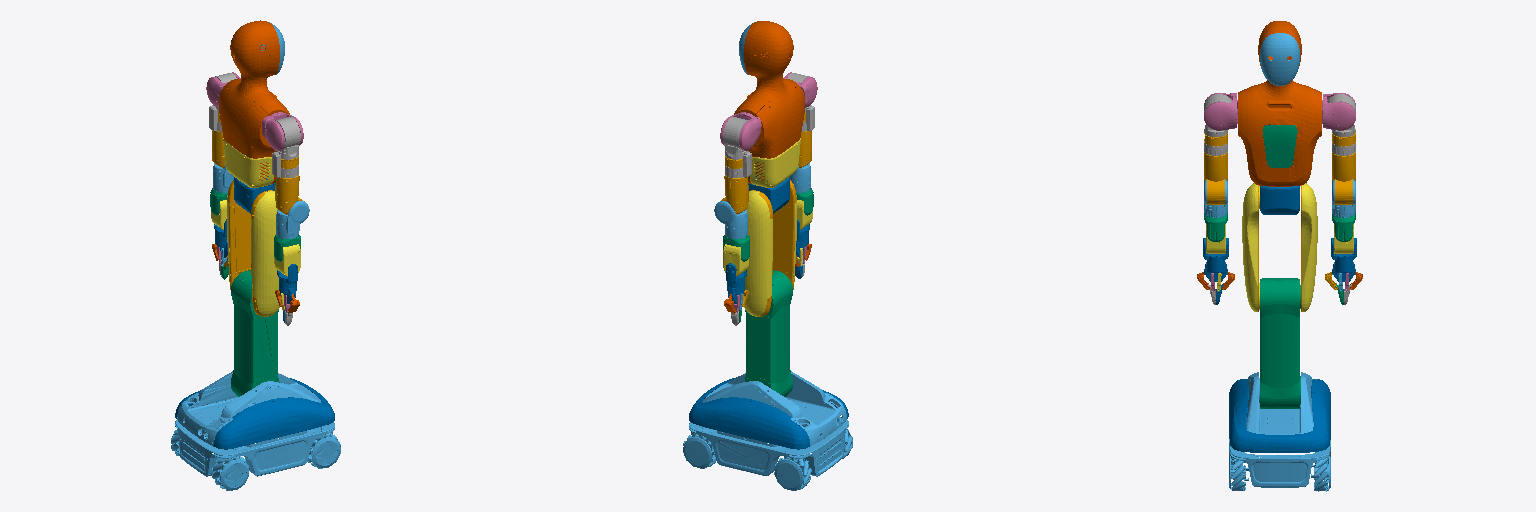
--- Facts derived from the render (not from the file) ---
Views: 3 orthographic renders of the robot side by side, from view 1: azimuth 30°, elevation 25°; view 2: azimuth 150°, elevation 25°; view 3: azimuth 270°, elevation 25°.
Robot: autolife — 37 links, 36 joints (18 revolute, 18 fixed); root link Link_Zero_Point; default pose: every joint at zero.
Visible links, largest first — view 1: Link_Ground_Vehicle_Z, Link_Waist_Yaw_to_Shoulder_Inner, Link_Ankle_to_Knee, Link_Ground_Vehicle_Visual_Cover, Link_Knee_to_Waist_Pitch, Link_Knee_Black_Cover, Link_Chest_Back_Cover, Link_Right_Shoulder_Outer_to_UpperArm, Link_Right_UpperArm_to_Elbow, Link_Right_Elbow_to_Forearm, Link_Right_Shoulder_Inner_to_Shoulder_Outer, Link_Waist_Pitch_to_Waist_Yaw; view 2: Link_Ground_Vehicle_Z, Link_Waist_Yaw_to_Shoulder_Inner, Link_Ankle_to_Knee, Link_Ground_Vehicle_Visual_Cover, Link_Knee_to_Waist_Pitch, Link_Knee_Black_Cover, Link_Chest_Back_Cover, Link_Left_Shoulder_Outer_to_UpperArm, Link_Left_UpperArm_to_Elbow, Link_Left_Elbow_to_Forearm, Link_Left_Shoulder_Inner_to_Shoulder_Outer, Link_Waist_Pitch_to_Waist_Yaw; view 3: Link_Waist_Yaw_to_Shoulder_Inner, Link_Ground_Vehicle_Z, Link_Ankle_to_Knee, Link_Ground_Vehicle_Visual_Cover, Link_Knee_to_Waist_Pitch, Link_Mask, Link_Chest_Front_Cover, Link_Left_UpperArm_to_Elbow, Link_Right_UpperArm_to_Elbow, Link_Waist_Pitch_to_Waist_Yaw, Link_Right_Shoulder_Inner_to_Shoulder_Outer, Link_Left_Shoulder_Inner_to_Shoulder_Outer (+4 smaller).
Link boxes in pixels (box(x1,y1,x2,y2)): Link_Ground_Vehicle_Z: box(171, 371, 340, 490); Link_Waist_Yaw_to_Shoulder_Inner: box(219, 20, 289, 183); Link_Ankle_to_Knee: box(231, 270, 279, 396); Link_Ground_Vehicle_Visual_Cover: box(175, 378, 334, 449); Link_Knee_to_Waist_Pitch: box(227, 184, 279, 316); Link_Knee_Black_Cover: box(227, 180, 272, 316); Link_Chest_Back_Cover: box(223, 138, 273, 187); Link_Right_Shoulder_Outer_to_UpperArm: box(272, 117, 300, 177); Link_Right_UpperArm_to_Elbow: box(275, 156, 304, 214); Link_Right_Elbow_to_Forearm: box(276, 201, 309, 238); Link_Right_Shoulder_Inner_to_Shoulder_Outer: box(262, 112, 303, 150); Link_Waist_Pitch_to_Waist_Yaw: box(234, 176, 275, 213); Link_Ground_Vehicle_Z: box(683, 371, 852, 490); Link_Waist_Yaw_to_Shoulder_Inner: box(734, 21, 804, 183); Link_Ankle_to_Knee: box(745, 270, 792, 396); Link_Ground_Vehicle_Visual_Cover: box(689, 377, 848, 449); Link_Knee_to_Waist_Pitch: box(744, 184, 796, 316); Link_Knee_Black_Cover: box(751, 180, 796, 316); Link_Chest_Back_Cover: box(750, 138, 800, 187); Link_Left_Shoulder_Outer_to_UpperArm: box(723, 117, 751, 177); Link_Left_UpperArm_to_Elbow: box(721, 156, 748, 214); Link_Left_Elbow_to_Forearm: box(714, 201, 747, 238); Link_Left_Shoulder_Inner_to_Shoulder_Outer: box(720, 112, 761, 150); Link_Waist_Pitch_to_Waist_Yaw: box(748, 176, 789, 213); Link_Waist_Yaw_to_Shoulder_Inner: box(1238, 21, 1321, 186); Link_Ground_Vehicle_Z: box(1229, 372, 1330, 491); Link_Ankle_to_Knee: box(1260, 278, 1300, 408); Link_Ground_Vehicle_Visual_Cover: box(1229, 379, 1330, 452); Link_Knee_to_Waist_Pitch: box(1242, 183, 1317, 311); Link_Mask: box(1260, 33, 1299, 85); Link_Chest_Front_Cover: box(1262, 125, 1297, 167); Link_Left_UpperArm_to_Elbow: box(1332, 132, 1355, 204); Link_Right_UpperArm_to_Elbow: box(1204, 133, 1227, 204); Link_Waist_Pitch_to_Waist_Yaw: box(1260, 186, 1299, 214); Link_Right_Shoulder_Inner_to_Shoulder_Outer: box(1204, 93, 1237, 130); Link_Left_Shoulder_Inner_to_Shoulder_Outer: box(1322, 93, 1355, 130).
Size in the robot's own frame: 0.5002 by 0.56 by 1.66 metres.
Meshes: 36 distinct files referenced, 36 mesh visuals loaded (36 binary STL).

robot.urdf — autolife:
<?xml version="1.0" encoding="utf-8"?>
<robot name="autolife">
  <link name="Link_Zero_Point" />

  <link name="Link_Ground_Vehicle_Z">
    <visual>
      <origin xyz="0 0 0" rpy="0 0 0" />
      <geometry>
        <mesh filename="package://meshes/Link_Ground_Vehicle_Z.STL" />
      </geometry>
    </visual>
    <collision>
      <origin xyz="0 0 0" rpy="0 0 0" />
      <geometry>
        <mesh filename="package://meshes/Link_Ground_Vehicle_Z.STL" />
      </geometry>
    </collision>
  </link>
  <joint name="Joint_Ground_Vehicle_Z" type="fixed">
    <origin xyz="0 0 0" rpy="1.5707963267949 0 -1.57079632679516" />
    <parent link="Link_Zero_Point" />
    <child link="Link_Ground_Vehicle_Z" />
    <axis xyz="0 0 0" />
  </joint>

  <link name="Link_Ankle_to_Knee">
    <visual>
      <origin xyz="0 0 0" rpy="0 0 0" />
      <geometry>
        <mesh filename="package://meshes/Link_Ankle_to_Knee.STL" />
      </geometry>
    </visual>
    <collision>
      <origin xyz="0 0 0" rpy="0 0 0" />
      <geometry>
        <mesh filename="package://meshes/Link_Ankle_to_Knee.STL" />
      </geometry>
    </collision>
  </link>
  <joint name="Joint_Ankle" type="revolute">
    <origin xyz="0 0.27 0" rpy="1.5708 0 1.5708" />
    <parent link="Link_Ground_Vehicle_Z" />
    <child link="Link_Ankle_to_Knee" />
    <axis xyz="0 0 -1" />
    <limit lower="-1.5708" upper="1.5708" effort="150" velocity="1" />
  </joint>

  <link name="Link_Knee_to_Waist_Pitch">
    <visual>
      <origin xyz="0 0 0" rpy="0 0 0" />
      <geometry>
        <mesh filename="package://meshes/Link_Knee_to_Waist_Pitch.STL" />
      </geometry>
    </visual>
    <collision>
      <origin xyz="0 0 0" rpy="0 0 0" />
      <geometry>
        <mesh filename="package://meshes/Link_Knee_to_Waist_Pitch.STL" />
      </geometry>
    </collision>
  </link>
  <joint name="Joint_Knee" type="revolute">
    <origin xyz="0.3495 0 0" rpy="0 0 0" />
    <parent link="Link_Ankle_to_Knee" />
    <child link="Link_Knee_to_Waist_Pitch" />
    <axis xyz="0 0 1" />
    <limit lower="-3.14" upper="3.14" effort="150" velocity="1" />
  </joint>

  <link name="Link_Waist_Pitch_to_Waist_Yaw">
    <visual>
      <origin xyz="0 0 0" rpy="0 0 0" />
      <geometry>
        <mesh filename="package://meshes/Link_Waist_Pitch_to_Waist_Yaw.STL" />
      </geometry>
    </visual>
    <collision>
      <origin xyz="0 0 0" rpy="0 0 0" />
      <geometry>
        <mesh filename="package://meshes/Link_Waist_Pitch_to_Waist_Yaw.STL" />
      </geometry>
    </collision>
  </link>
  <joint name="Joint_Waist_Pitch" type="revolute">
    <origin xyz="0.3705 0 0" rpy="0 0 0" />
    <parent link="Link_Knee_to_Waist_Pitch" />
    <child link="Link_Waist_Pitch_to_Waist_Yaw" />
    <axis xyz="0 0 -1" />
    <limit lower="-3" upper="3" effort="98" velocity="1" />
  </joint>

  <link name="Link_Waist_Yaw_to_Shoulder_Inner">
    <visual>
      <origin xyz="0 0 0" rpy="0 0 0" />
      <geometry>
        <mesh filename="package://meshes/Link_Waist_Yaw_to_Shoulder_Inner.STL" />
      </geometry>
    </visual>
    <collision>
      <origin xyz="0 0 0" rpy="0 0 0" />
      <geometry>
        <mesh filename="package://meshes/Link_Waist_Yaw_to_Shoulder_Inner.STL" />
      </geometry>
    </collision>
  </link>
  <joint name="Joint_Waist_Yaw" type="revolute">
    <origin xyz="0.06643 0 0" rpy="-1.5708 0 -1.5708" />
    <parent link="Link_Waist_Pitch_to_Waist_Yaw" />
    <child link="Link_Waist_Yaw_to_Shoulder_Inner" />
    <axis xyz="0 0 1" />
    <limit lower="-3.141" upper="3.141" effort="66" velocity="1" />
  </joint>

  <!-- Left Arm -->
  <link name="Link_Left_Shoulder_Inner_to_Shoulder_Outer">
    <visual>
      <origin xyz="0 0 0" rpy="0 0 0" />
      <geometry>
        <mesh filename="package://meshes/Link_Left_Shoulder_Inner_to_Shoulder_Outer.STL" />
      </geometry>
    </visual>
    <collision>
      <origin xyz="0 0 0" rpy="0 0 0" />
      <geometry>
        <mesh filename="package://meshes/Link_Left_Shoulder_Inner_to_Shoulder_Outer.STL" />
      </geometry>
    </collision>
  </link>
  <joint name="Joint_Left_Shoulder_Inner" type="revolute">
    <origin xyz="0 0.1311 0.25157" rpy="-1.5708 0 0" />
    <parent link="Link_Waist_Yaw_to_Shoulder_Inner" />
    <child link="Link_Left_Shoulder_Inner_to_Shoulder_Outer" />
    <axis xyz="0 0 -1" />
    <limit lower="-2.6179" upper="3.141" effort="21" velocity="1" />
  </joint>

  <link name="Link_Left_Shoulder_Outer_to_UpperArm">
    <visual>
      <origin xyz="0 0 0" rpy="0 0 0" />
      <geometry>
        <mesh filename="package://meshes/Link_Left_Shoulder_Outer_to_UpperArm.STL" />
      </geometry>
    </visual>
    <collision>
      <origin xyz="0 0 0" rpy="0 0 0" />
      <geometry>
        <mesh filename="package://meshes/Link_Left_Shoulder_Outer_to_UpperArm.STL" />
      </geometry>
    </collision>
  </link>
  <joint name="Joint_Left_Shoulder_Outer" type="revolute">
    <origin xyz="0.02825 0 0.074" rpy="1.5708 0 1.5708" />
    <parent link="Link_Left_Shoulder_Inner_to_Shoulder_Outer" />
    <child link="Link_Left_Shoulder_Outer_to_UpperArm" />
    <axis xyz="0 0 1" />
    <limit lower="-0.349" upper="3.1415" effort="18" velocity="1" />
  </joint>

  <link name="Link_Left_UpperArm_to_Elbow">
    <visual>
      <origin xyz="0 0 0" rpy="0 0 0" />
      <geometry>
        <mesh filename="package://meshes/Link_Left_UpperArm_to_Elbow.STL" />
      </geometry>
    </visual>
    <collision>
      <origin xyz="0 0 0" rpy="0 0 0" />
      <geometry>
        <mesh filename="package://meshes/Link_Left_UpperArm_to_Elbow.STL" />
      </geometry>
    </collision>
  </link>
  <joint name="Joint_Left_UpperArm" type="revolute">
    <origin xyz="0.1105 0.011 -0.02825" rpy="0 -1.5708 3.1415" />
    <parent link="Link_Left_Shoulder_Outer_to_UpperArm" />
    <child link="Link_Left_UpperArm_to_Elbow" />
    <axis xyz="0 0 -1" />
    <limit lower="-2.9322" upper="2.9322" effort="15" velocity="1" />
  </joint>

  <link name="Link_Left_Elbow_to_Forearm">
    <visual>
      <origin xyz="0 0 0" rpy="0 0 0" />
      <geometry>
        <mesh filename="package://meshes/Link_Left_Elbow_to_Forearm.STL" />
      </geometry>
    </visual>
    <collision>
      <origin xyz="0 0 0" rpy="0 0 0" />
      <geometry>
        <mesh filename="package://meshes/Link_Left_Elbow_to_Forearm.STL" />
      </geometry>
    </collision>
  </link>
  <joint name="Joint_Left_Elbow" type="revolute">
    <origin xyz="0.025 0.02925 0.1761" rpy="0 -1.5708 -1.5708" />
    <parent link="Link_Left_UpperArm_to_Elbow" />
    <child link="Link_Left_Elbow_to_Forearm" />
    <axis xyz="0 0 1" />
    <limit lower="-0.0524" upper="2.6179" effort="12" velocity="1" />
  </joint>

  <link name="Link_Left_Forearm_to_Wrist_Upper">
    <visual>
      <origin xyz="0 0 0" rpy="0 0 0" />
      <geometry>
        <mesh filename="package://meshes/Link_Left_Forearm_to_Wrist_Upper.STL" />
      </geometry>
    </visual>
    <collision>
      <origin xyz="0 0 0" rpy="0 0 0" />
      <geometry>
        <mesh filename="package://meshes/Link_Left_Forearm_to_Wrist_Upper.STL" />
      </geometry>
    </collision>
  </link>
  <joint name="Joint_Left_Forearm" type="revolute">
    <origin xyz="0.1055 -0.025 -0.02925" rpy="1.5708 0 1.5708" />
    <parent link="Link_Left_Elbow_to_Forearm" />
    <child link="Link_Left_Forearm_to_Wrist_Upper" />
    <axis xyz="0 0 1" />
    <limit lower="-2.8798" upper="2.8798" effort="9" velocity="1" />
  </joint>

  <link name="Link_Left_Wrist_Upper_to_Wrist_Lower">
    <visual>
      <origin xyz="0 0 0" rpy="0 0 0" />
      <geometry>
        <mesh filename="package://meshes/Link_Left_Wrist_Upper_to_Wrist_Lower.STL" />
      </geometry>
    </visual>
    <collision>
      <origin xyz="0 0 0" rpy="0 0 0" />
      <geometry>
        <mesh filename="package://meshes/Link_Left_Wrist_Upper_to_Wrist_Lower.STL" />
      </geometry>
    </collision>
  </link>
  <joint name="Joint_Left_Wrist_Upper" type="revolute">
    <origin xyz="0.0321 0.00036292 0.045" rpy="0 -1.5708 3.1415" />
    <parent link="Link_Left_Forearm_to_Wrist_Upper" />
    <child link="Link_Left_Wrist_Upper_to_Wrist_Lower" />
    <axis xyz="0 0 -1" />
    <limit lower="-1.57" upper="1.57" effort="6" velocity="1" />
  </joint>

  <link name="Link_Left_Wrist_Lower_to_Gripper">
    <visual>
      <origin xyz="0 0 0" rpy="0 0 0" />
      <geometry>
        <mesh filename="package://meshes/Link_Left_Wrist_Lower_to_Gripper.STL" />
      </geometry>
    </visual>
    <collision>
      <origin xyz="0 0 0" rpy="0 0 0" />
      <geometry>
        <mesh filename="package://meshes/Link_Left_Wrist_Lower_to_Gripper.STL" />
      </geometry>
    </collision>
  </link>
  <joint name="Joint_Left_Wrist_Lower" type="revolute">
    <origin xyz="0.0552 0.0321 -0.0321" rpy="-1.5708 0 0" />
    <parent link="Link_Left_Wrist_Upper_to_Wrist_Lower" />
    <child link="Link_Left_Wrist_Lower_to_Gripper" />
    <axis xyz="0 0 1" />
    <limit lower="-1.4138" upper="1.4138" effort="3" velocity="1" />
  </joint>

  <link name="Link_Left_Gripper">
    <visual>
      <origin xyz="0 0 0" rpy="0 0 0" />
      <geometry>
        <mesh filename="package://meshes/Link_Left_Gripper.STL" />
      </geometry>
    </visual>
    <collision>
      <origin xyz="0 0 0" rpy="0 0 0" />
      <geometry>
        <mesh filename="package://meshes/Link_Left_Gripper.STL" />
      </geometry>
    </collision>
  </link>
  <joint name="Joint_Left_Gripper" type="fixed">
    <origin xyz="0.10148 -0.011 -0.0011371" rpy="1.5708 -1.5708 0" />
    <parent link="Link_Left_Wrist_Lower_to_Gripper" />
    <child link="Link_Left_Gripper" />
    <axis xyz="0 0 1" />
  </joint>

  <!-- Right Arm -->
  <link name="Link_Right_Shoulder_Inner_to_Shoulder_Outer">
    <visual>
      <origin xyz="0 0 0" rpy="0 0 0" />
      <geometry>
        <mesh filename="package://meshes/Link_Right_Shoulder_Inner_to_Shoulder_Outer.STL" />
      </geometry>
    </visual>
    <collision>
      <origin xyz="0 0 0" rpy="0 0 0" />
      <geometry>
        <mesh filename="package://meshes/Link_Right_Shoulder_Inner_to_Shoulder_Outer.STL" />
      </geometry>
    </collision>
  </link>
  <joint name="Joint_Right_Shoulder_Inner" type="revolute">
    <origin xyz="0 -0.1311 0.25157" rpy="1.5708 0 0" />
    <parent link="Link_Waist_Yaw_to_Shoulder_Inner" />
    <child link="Link_Right_Shoulder_Inner_to_Shoulder_Outer" />
    <axis xyz="0 0 -1" />
    <limit lower="-2.6179" upper="3.141" effort="21" velocity="1" />
  </joint>

  <link name="Link_Right_Shoulder_Outer_to_UpperArm">
    <visual>
      <origin xyz="0 0 0" rpy="0 0 0" />
      <geometry>
        <mesh filename="package://meshes/Link_Right_Shoulder_Outer_to_UpperArm.STL" />
      </geometry>
    </visual>
    <collision>
      <origin xyz="0 0 0" rpy="0 0 0" />
      <geometry>
        <mesh filename="package://meshes/Link_Right_Shoulder_Outer_to_UpperArm.STL" />
      </geometry>
    </collision>
  </link>
  <joint name="Joint_Right_Shoulder_Outer" type="revolute">
    <origin xyz="0.02825 0 0.074" rpy="-1.5708 0 -1.5708" />
    <parent link="Link_Right_Shoulder_Inner_to_Shoulder_Outer" />
    <child link="Link_Right_Shoulder_Outer_to_UpperArm" />
    <axis xyz="0 0 1" />
    <limit lower="-3.1415" upper="0.349" effort="18" velocity="1" />
  </joint>

  <link name="Link_Right_UpperArm_to_Elbow">
    <visual>
      <origin xyz="0 0 0" rpy="0 0 0" />
      <geometry>
        <mesh filename="package://meshes/Link_Right_UpperArm_to_Elbow.STL" />
      </geometry>
    </visual>
    <collision>
      <origin xyz="0 0 0" rpy="0 0 0" />
      <geometry>
        <mesh filename="package://meshes/Link_Right_UpperArm_to_Elbow.STL" />
      </geometry>
    </collision>
  </link>
  <joint name="Joint_Right_UpperArm" type="revolute">
    <origin xyz="0.1105 -0.011 -0.02825" rpy="3.1415 -1.5708 0" />
    <parent link="Link_Right_Shoulder_Outer_to_UpperArm" />
    <child link="Link_Right_UpperArm_to_Elbow" />
    <axis xyz="0 0 -1" />
    <limit lower="-2.9322" upper="2.9322" effort="15" velocity="1" />
  </joint>

  <link name="Link_Right_Elbow_to_Forearm">
    <visual>
      <origin xyz="0 0 0" rpy="0 0 0" />
      <geometry>
        <mesh filename="package://meshes/Link_Right_Elbow_to_Forearm.STL" />
      </geometry>
    </visual>
    <collision>
      <origin xyz="0 0 0" rpy="0 0 0" />
      <geometry>
        <mesh filename="package://meshes/Link_Right_Elbow_to_Forearm.STL" />
      </geometry>
    </collision>
  </link>
  <joint name="Joint_Right_Elbow" type="revolute">
    <origin xyz="0.025 0.03075 0.1761" rpy="0 -1.5708 -1.5708" />
    <parent link="Link_Right_UpperArm_to_Elbow" />
    <child link="Link_Right_Elbow_to_Forearm" />
    <axis xyz="0 0 -1" />
    <limit lower="-2.6179" upper="0.0524" effort="12" velocity="1" />
  </joint>

  <link name="Link_Right_Forearm_to_Wrist_Upper">
    <visual>
      <origin xyz="0 0 0" rpy="0 0 0" />
      <geometry>
        <mesh filename="package://meshes/Link_Right_Forearm_to_Wrist_Upper.STL" />
      </geometry>
    </visual>
    <collision>
      <origin xyz="0 0 0" rpy="0 0 0" />
      <geometry>
        <mesh filename="package://meshes/Link_Right_Forearm_to_Wrist_Upper.STL" />
      </geometry>
    </collision>
  </link>
  <joint name="Joint_Right_Forearm" type="revolute">
    <origin xyz="0.1055 -0.025 -0.03075" rpy="1.5708 0 1.5708" />
    <parent link="Link_Right_Elbow_to_Forearm" />
    <child link="Link_Right_Forearm_to_Wrist_Upper" />
    <axis xyz="0 0 1" />
    <limit lower="-2.8798" upper="2.8798" effort="9" velocity="1" />
  </joint>

  <link name="Link_Right_Wrist_Upper_to_Wrist_Lower ">
    <visual>
      <origin xyz="0 0 0" rpy="0 0 0" />
      <geometry>
        <mesh filename="package://meshes/Link_Right_Wrist_Upper_to_Wrist_Lower .STL" />
      </geometry>
    </visual>
    <collision>
      <origin xyz="0 0 0" rpy="0 0 0" />
      <geometry>
        <mesh filename="package://meshes/Link_Right_Wrist_Upper_to_Wrist_Lower .STL" />
      </geometry>
    </collision>
  </link>
  <joint name="Joint_Right_Wrist_Upper" type="revolute">
    <origin xyz="0.0321 -0.00036285 0.045" rpy="3.1415 -1.5708 0" />
    <parent link="Link_Right_Forearm_to_Wrist_Upper" />
    <child link="Link_Right_Wrist_Upper_to_Wrist_Lower " />
    <axis xyz="0 0 -1" />
    <limit lower="-1.57" upper="1.57" effort="6" velocity="1" />
  </joint>

  <link name="Link_Right_Wrist_Lower_to_Gripper">
    <visual>
      <origin xyz="0 0 0" rpy="0 0 0" />
      <geometry>
        <mesh filename="package://meshes/Link_Right_Wrist_Lower_to_Gripper.STL" />
      </geometry>
    </visual>
    <collision>
      <origin xyz="0 0 0" rpy="0 0 0" />
      <geometry>
        <mesh filename="package://meshes/Link_Right_Wrist_Lower_to_Gripper.STL" />
      </geometry>
    </collision>
  </link>
  <joint name="Joint_Right_Wrist_Lower" type="revolute">
    <origin xyz="0.0552 0.0321 -0.0321" rpy="-1.5708 0 0" />
    <parent link="Link_Right_Wrist_Upper_to_Wrist_Lower " />
    <child link="Link_Right_Wrist_Lower_to_Gripper" />
    <axis xyz="0 0 1" />
    <limit lower="-1.4138" upper="1.4138" effort="3" velocity="1" />
  </joint>

  <link name="Link_Right_Gripper">
    <visual>
      <origin xyz="0 0 0" rpy="0 0 0" />
      <geometry>
        <mesh filename="package://meshes/Link_Right_Gripper.STL" />
      </geometry>
    </visual>
    <collision>
      <origin xyz="0 0 0" rpy="0 0 0" />
      <geometry>
        <mesh filename="package://meshes/Link_Right_Gripper.STL" />
      </geometry>
    </collision>
  </link>
  <joint name="Joint_Right_Gripper" type="fixed">
    <origin xyz="0.10148 -0.011 -0.0018628" rpy="1.5708 -1.5708 0" />
    <parent link="Link_Right_Wrist_Lower_to_Gripper" />
    <child link="Link_Right_Gripper" />
    <axis xyz="0 0 1" />
  </joint>

  <!-- Non-sensor additional links restored from original URDF -->
  <!-- Left gripper sub-links -->
  <link name="Link_Left_Gripper_Left_Inner_Knuckle">
    <visual>
      <origin xyz="0 0 0" rpy="0 0 0" />
      <geometry>
        <mesh filename="package://meshes/Link_Left_Gripper_Left_Inner_Knuckle.STL" />
      </geometry>
    </visual>
    <collision>
      <origin xyz="0 0 0" rpy="0 0 0" />
      <geometry>
        <mesh filename="package://meshes/Link_Left_Gripper_Left_Inner_Knuckle.STL" />
      </geometry>
    </collision>
  </link>
  <joint name="Joint_Left_Gripper_Left_Inner_Knuckle" type="fixed">
    <origin xyz="0.10799 -0.011 -0.019037" rpy="1.5708 -1.5708 0" />
    <parent link="Link_Left_Wrist_Lower_to_Gripper" />
    <child link="Link_Left_Gripper_Left_Inner_Knuckle" />
    <axis xyz="0 0 1" />
    <limit lower="-1" upper="1" effort="2" velocity="1" />
    <mimic joint="Joint_Left_Gripper" multiplier="1" offset="0" />
  </joint>

  <link name="Joint_Left_Gripper_Left_Finger">
    <visual>
      <origin xyz="0 0 0" rpy="0 0 0" />
      <geometry>
        <mesh filename="package://meshes/Joint_Left_Gripper_Left_Finger.STL" />
      </geometry>
    </visual>
    <collision>
      <origin xyz="0 0 0" rpy="0 0 0" />
      <geometry>
        <mesh filename="package://meshes/Joint_Left_Gripper_Left_Finger.STL" />
      </geometry>
    </collision>
  </link>
  <joint name="Joint_Left_Gripper_Left_Finger" type="fixed">
    <origin xyz="-0.0032202 -0.057059 -0.0029" rpy="0 0 0" />
    <parent link="Link_Left_Gripper_Left_Inner_Knuckle" />
    <child link="Joint_Left_Gripper_Left_Finger" />
    <axis xyz="0 0 1" />
    <limit lower="-1" upper="1" effort="2" velocity="1" />
    <mimic joint="Joint_Left_Gripper" multiplier="-1" offset="0" />
  </joint>

  <link name="Link_Left_Gripper_Right_Outer_Knuckle">
    <visual>
      <origin xyz="0 0 0" rpy="0 0 0" />
      <geometry>
        <mesh filename="package://meshes/Link_Left_Gripper_Right_Outer_Knuckle.STL" />
      </geometry>
    </visual>
    <collision>
      <origin xyz="0 0 0" rpy="0 0 0" />
      <geometry>
        <mesh filename="package://meshes/Link_Left_Gripper_Right_Outer_Knuckle.STL" />
      </geometry>
    </collision>
  </link>
  <joint name="Joint_Left_Gripper_Right_Outer_Knuckle" type="fixed">
    <origin xyz="0.10148 -0.011 -0.062337" rpy="1.5708 -1.5708 0" />
    <parent link="Link_Left_Wrist_Lower_to_Gripper" />
    <child link="Link_Left_Gripper_Right_Outer_Knuckle" />
    <axis xyz="0 0 1" />
    <limit lower="-1" upper="1" effort="2" velocity="1" />
    <mimic joint="Joint_Left_Gripper" multiplier="-1" offset="0" />
  </joint>

  <link name="Link_Left_Gripper_Right_Inner_Knuckle">
    <visual>
      <origin xyz="0 0 0" rpy="0 0 0" />
      <geometry>
        <mesh filename="package://meshes/Link_Left_Gripper_Right_Inner_Knuckle.STL" />
      </geometry>
    </visual>
    <collision>
      <origin xyz="0 0 0" rpy="0 0 0" />
      <geometry>
        <mesh filename="package://meshes/Link_Left_Gripper_Right_Inner_Knuckle.STL" />
      </geometry>
    </collision>
  </link>
  <joint name="Joint_Left_Gripper_Right_Inner_Knuckle" type="fixed">
    <origin xyz="0.10799 -0.011 -0.044437" rpy="1.5708 -1.5708 0" />
    <parent link="Link_Left_Wrist_Lower_to_Gripper" />
    <child link="Link_Left_Gripper_Right_Inner_Knuckle" />
    <axis xyz="0 0 1" />
    <limit lower="-1" upper="1" effort="2" velocity="1" />
    <mimic joint="Joint_Left_Gripper" multiplier="-1" offset="0" />
  </joint>

  <link name="Link_Left_Gripper_Right_Finger">
    <visual>
      <origin xyz="0 0 0" rpy="0 0 0" />
      <geometry>
        <mesh filename="package://meshes/Link_Left_Gripper_Right_Finger.STL" />
      </geometry>
    </visual>
    <collision>
      <origin xyz="0 0 0" rpy="0 0 0" />
      <geometry>
        <mesh filename="package://meshes/Link_Left_Gripper_Right_Finger.STL" />
      </geometry>
    </collision>
  </link>
  <joint name="Joint_Left_Gripper_Right_Finger" type="fixed">
    <origin xyz="0.0032202 -0.057059 -0.0029" rpy="0 0 0" />
    <parent link="Link_Left_Gripper_Right_Inner_Knuckle" />
    <child link="Link_Left_Gripper_Right_Finger" />
    <axis xyz="0 0 1" />
    <limit lower="-1" upper="1" effort="2" velocity="1" />
    <mimic joint="Joint_Left_Gripper" multiplier="1" offset="0" />
  </joint>

  <!-- Right gripper sub-links -->
  <link name="Link_Right_Gripper_Left_Inner_Knuckle">
    <visual>
      <origin xyz="0 0 0" rpy="0 0 0" />
      <geometry>
        <mesh filename="package://meshes/Link_Right_Gripper_Left_Inner_Knuckle.STL" />
      </geometry>
    </visual>
    <collision>
      <origin xyz="0 0 0" rpy="0 0 0" />
      <geometry>
        <mesh filename="package://meshes/Link_Right_Gripper_Left_Inner_Knuckle.STL" />
      </geometry>
    </collision>
  </link>
  <joint name="Joint_Right_Gripper_Left_Inner_Knuckle" type="fixed">
    <origin xyz="0.10799 -0.011 -0.019763" rpy="1.5708 -1.5708 0" />
    <parent link="Link_Right_Wrist_Lower_to_Gripper" />
    <child link="Link_Right_Gripper_Left_Inner_Knuckle" />
    <axis xyz="0 0 1" />
    <limit lower="-1" upper="1" effort="2" velocity="1" />
    <mimic joint="Joint_Right_Gripper" multiplier="1" offset="0" />
  </joint>

  <link name="Link_Right_Gripper_Left_Finger">
    <visual>
      <origin xyz="0 0 0" rpy="0 0 0" />
      <geometry>
        <mesh filename="package://meshes/Link_Right_Gripper_Left_Finger.STL" />
      </geometry>
    </visual>
    <collision>
      <origin xyz="0 0 0" rpy="0 0 0" />
      <geometry>
        <mesh filename="package://meshes/Link_Right_Gripper_Left_Finger.STL" />
      </geometry>
    </collision>
  </link>
  <joint name="Joint_Right_Gripper_Left_Finger" type="fixed">
    <origin xyz="-0.0032202 -0.057059 -0.0029" rpy="0 0 0" />
    <parent link="Link_Right_Gripper_Left_Inner_Knuckle" />
    <child link="Link_Right_Gripper_Left_Finger" />
    <axis xyz="0 0 1" />
    <limit lower="-1" upper="1" effort="2" velocity="1" />
    <mimic joint="Joint_Right_Gripper" multiplier="-1" offset="0" />
  </joint>

  <link name="Link_Right_Gripper_Right_Outer_Knuckle">
    <visual>
      <origin xyz="0 0 0" rpy="0 0 0" />
      <geometry>
        <mesh filename="package://meshes/Link_Right_Gripper_Right_Outer_Knuckle.STL" />
      </geometry>
    </visual>
    <collision>
      <origin xyz="0 0 0" rpy="0 0 0" />
      <geometry>
        <mesh filename="package://meshes/Link_Right_Gripper_Right_Outer_Knuckle.STL" />
      </geometry>
    </collision>
  </link>
  <joint name="Joint_Right_Gripper_Right_Outer_Knuckle" type="fixed">
    <origin xyz="0.10148 -0.011 -0.063063" rpy="1.5708 -1.5708 0" />
    <parent link="Link_Right_Wrist_Lower_to_Gripper" />
    <child link="Link_Right_Gripper_Right_Outer_Knuckle" />
    <axis xyz="0 0 1" />
    <limit lower="-1" upper="1" effort="2" velocity="1" />
    <mimic joint="Joint_Right_Gripper" multiplier="-1" offset="0" />
  </joint>

  <link name="Link_Right_Gripper_Right_Inner_Knuckle">
    <visual>
      <origin xyz="0 0 0" rpy="0 0 0" />
      <geometry>
        <mesh filename="package://meshes/Link_Right_Gripper_Right_Inner_Knuckle.STL" />
      </geometry>
    </visual>
    <collision>
      <origin xyz="0 0 0" rpy="0 0 0" />
      <geometry>
        <mesh filename="package://meshes/Link_Right_Gripper_Right_Inner_Knuckle.STL" />
      </geometry>
    </collision>
  </link>
  <joint name="Joint_Right_Gripper_Right_Inner_Knuckle" type="fixed">
    <origin xyz="0.10799 -0.011 -0.045163" rpy="1.5708 -1.5708 0" />
    <parent link="Link_Right_Wrist_Lower_to_Gripper" />
    <child link="Link_Right_Gripper_Right_Inner_Knuckle" />
    <axis xyz="0 0 1" />
    <limit lower="-1" upper="1" effort="2" velocity="1" />
    <mimic joint="Joint_Right_Gripper" multiplier="-1" offset="0" />
  </joint>

  <link name="Link_Right_Gripper_Right_Finger">
    <visual>
      <origin xyz="0 0 0" rpy="0 0 0" />
      <geometry>
        <mesh filename="package://meshes/Link_Right_Gripper_Right_Finger.STL" />
      </geometry>
    </visual>
    <collision>
      <origin xyz="0 0 0" rpy="0 0 0" />
      <geometry>
        <mesh filename="package://meshes/Link_Right_Gripper_Right_Finger.STL" />
      </geometry>
    </collision>
  </link>
  <joint name="Joint_Right_Gripper_Right_Finger" type="fixed">
    <origin xyz="0.0032202 -0.057059 -0.0029" rpy="0 0 0" />
    <parent link="Link_Right_Gripper_Right_Inner_Knuckle" />
    <child link="Link_Right_Gripper_Right_Finger" />
    <axis xyz="0 0 1" />
    <limit lower="-1" upper="1" effort="2" velocity="1" />
    <mimic joint="Joint_Right_Gripper" multiplier="1" offset="0" />
  </joint>

  <!-- Other non-sensor covers -->
  <link name="Link_Knee_Black_Cover">
    <visual>
      <origin xyz="0 0 0" rpy="0 0 0" />
      <geometry>
        <mesh filename="package://meshes/Link_Knee_Black_Cover.STL" />
      </geometry>
    </visual>
    <collision>
      <origin xyz="0 0 0" rpy="0 0 0" />
      <geometry>
        <mesh filename="package://meshes/Link_Knee_Black_Cover.STL" />
      </geometry>
    </collision>
  </link>
  <joint name="Joint_Knee_Black_Cover" type="fixed">
    <origin xyz="0.3705 0 0" rpy="0 0 0" />
    <parent link="Link_Knee_to_Waist_Pitch" />
    <child link="Link_Knee_Black_Cover" />
    <axis xyz="0 0 0" />
  </joint>

  <link name="Link_Mask">
    <visual>
      <origin xyz="0 0 0" rpy="0 0 0" />
      <geometry>
        <mesh filename="package://meshes/Link_Mask.STL" />
      </geometry>
    </visual>
    <collision>
      <origin xyz="0 0 0" rpy="0 0 0" />
      <geometry>
        <mesh filename="package://meshes/Link_Mask.STL" />
      </geometry>
    </collision>
  </link>
  <joint name="Joint_Mask" type="fixed">
    <origin xyz="-0.0428574426734296 1.96731518201515E-05 0.391365544112642" rpy="2.96705972838954 0 -1.5707963267949" />
    <parent link="Link_Waist_Yaw_to_Shoulder_Inner" />
    <child link="Link_Mask" />
    <axis xyz="0 0 0" />
  </joint>

  <link name="Link_Chest_Front_Cover">
    <visual>
      <origin xyz="0 0 0" rpy="0 0 0" />
      <geometry>
        <mesh filename="package://meshes/Link_Chest_Front_Cover.STL" />
      </geometry>
    </visual>
    <collision>
      <origin xyz="0 0 0" rpy="0 0 0" />
      <geometry>
        <mesh filename="package://meshes/Link_Chest_Front_Cover.STL" />
      </geometry>
    </collision>
  </link>
  <joint name="Joint_Chest_Front_Cover" type="fixed">
    <origin xyz="0.0482644434006438 -0.102712228594056 -0.150180188902497" rpy="3.14159265358979 0 1.5707963267949" />
    <parent link="Link_Waist_Yaw_to_Shoulder_Inner" />
    <child link="Link_Chest_Front_Cover" />
    <axis xyz="0 0 0" />
  </joint>

  <link name="Link_Chest_Back_Cover">
    <visual>
      <origin xyz="0 0 0" rpy="0 0 0" />
      <geometry>
        <mesh filename="package://meshes/Link_Chest_Back_Cover.STL" />
      </geometry>
    </visual>
    <collision>
      <origin xyz="0 0 0" rpy="0 0 0" />
      <geometry>
        <mesh filename="package://meshes/Link_Chest_Back_Cover.STL" />
      </geometry>
    </collision>
  </link>
  <joint name="Joint_Chest_Back_Cover" type="fixed">
    <origin xyz="0.0482644434006438 -0.102712228594056 -0.150180188902497" rpy="3.14159265358979 0 1.5707963267949" />
    <parent link="Link_Waist_Yaw_to_Shoulder_Inner" />
    <child link="Link_Chest_Back_Cover" />
    <axis xyz="0 0 0" />
  </joint>

  <link name="Link_Ground_Vehicle_Visual_Cover">
    <visual>
      <origin xyz="0 0 0" rpy="0 0 0" />
      <geometry>
        <mesh filename="package://meshes/Link_Ground_Vehicle_Visual_Cover.STL" />
      </geometry>
    </visual>
    <collision>
      <origin xyz="0 0 0" rpy="0 0 0" />
      <geometry>
        <mesh filename="package://meshes/Link_Ground_Vehicle_Visual_Cover.STL" />
      </geometry>
    </collision>
  </link>
  <joint name="Joint_Ground_Vehicle_Visual_Cover" type="fixed">
    <origin xyz="0 0 0" rpy="0 0 0" />
    <parent link="Link_Ground_Vehicle_Z" />
    <child link="Link_Ground_Vehicle_Visual_Cover" />
    <axis xyz="0 0 0" />
  </joint>

</robot>
